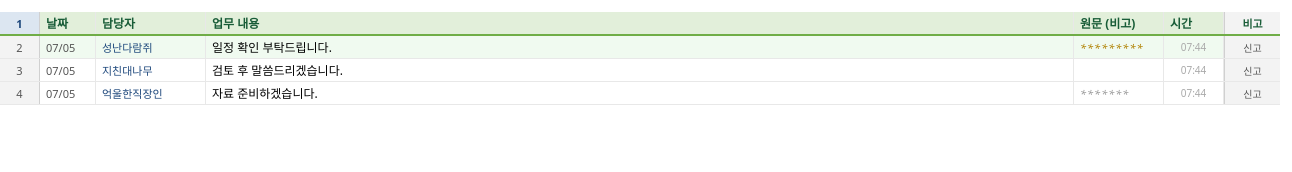
Test case: ChatPanel › 한 행의 마스킹 해제가 다른 행에 영향을 주지 않는다
Step 1. Click the text titled "클릭하여 보기" → (1112, 47), box left=1080, top=40, right=1144, bottom=54
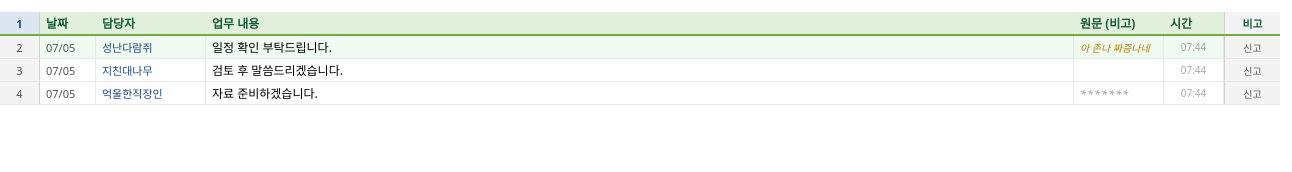
Check: the text titled "클릭하여 보기" reads "*******", box left=1080, top=86, right=1129, bottom=100
Check: the text titled "클릭하여 보기" reads "아 존나 짜증나네", box left=1080, top=40, right=1150, bottom=54
